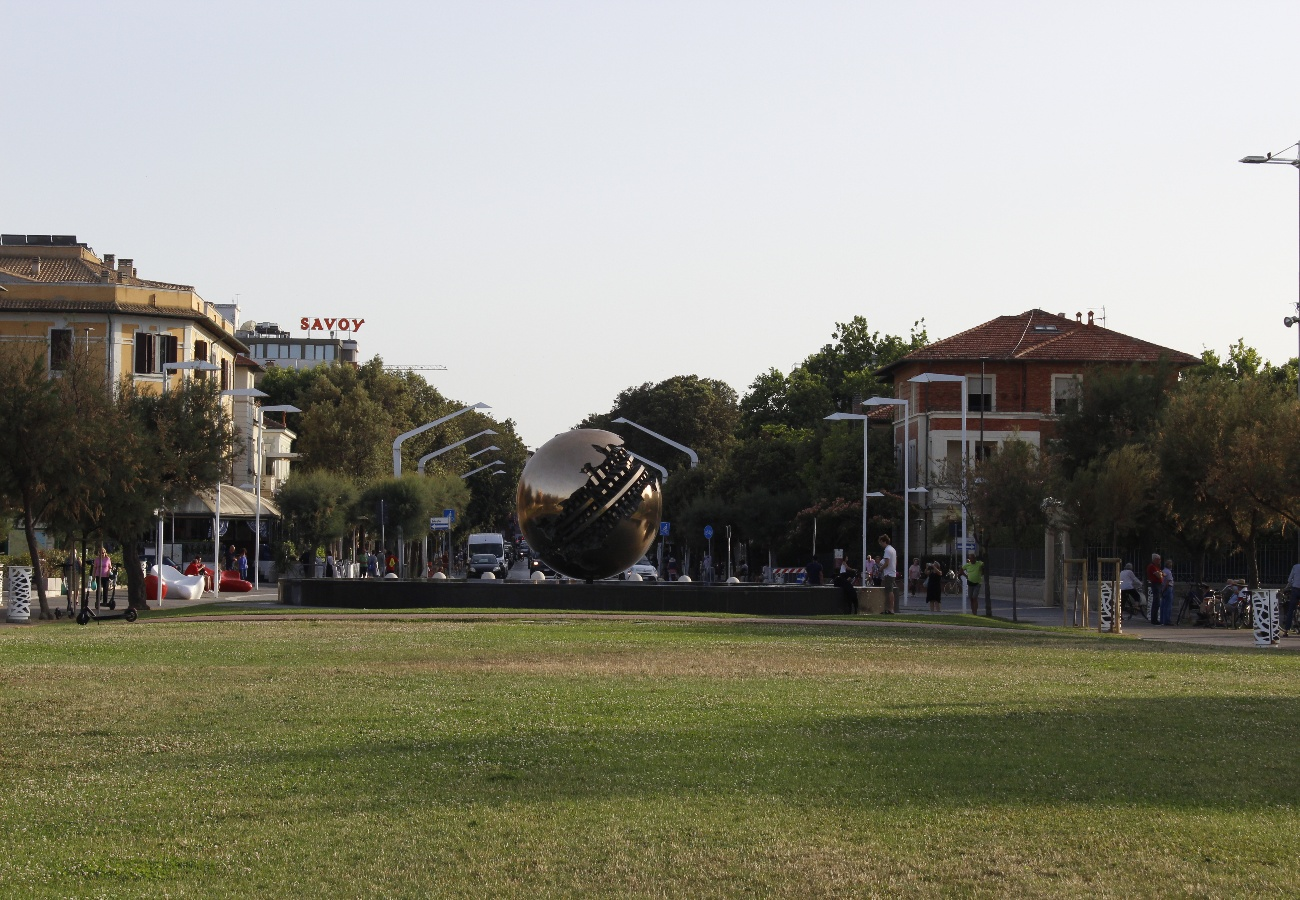Palla di Pomodoro: (514, 430, 662, 578)
